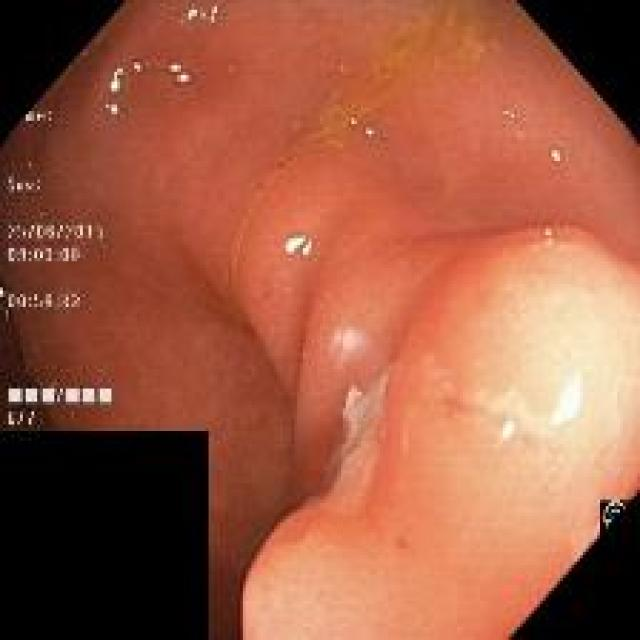Polyps: (242, 229, 640, 639)
